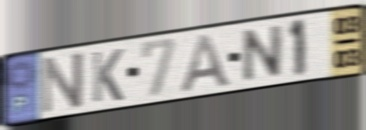1: (285, 17, 309, 80)
7: (139, 35, 181, 101)
A: (178, 32, 234, 95)
K: (90, 47, 125, 105)
N: (40, 49, 86, 117), (240, 22, 286, 85)
